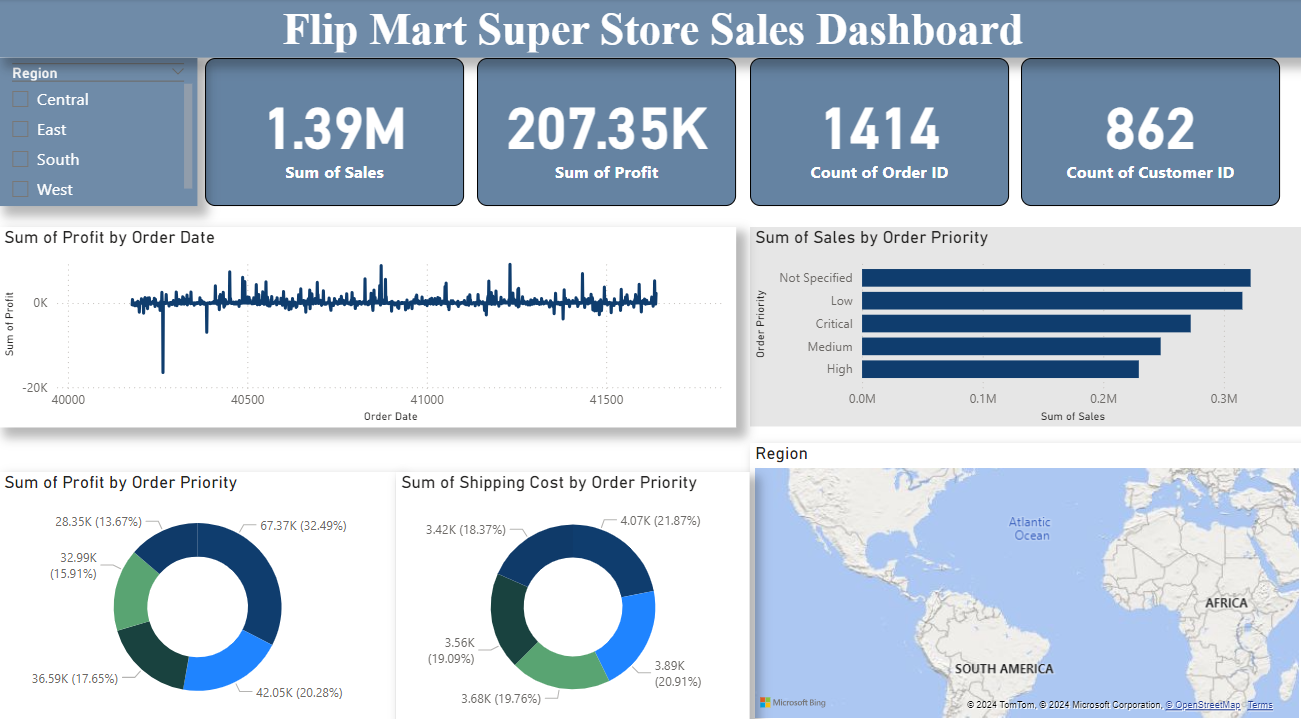

What the dashboard file says about the page in this screenshot:
{"tool":"powerbi","page":{"name":"Dashboard","canvas":[1280,720],"ordinal":0},"visuals":[{"type":"card","fields":{"Values":["Sum(Orders Table.Sales)"]},"box":[199.9,57.1,252,144.5],"z":0},{"type":"card","fields":{"Values":["Sum(Orders Table.Profit)"]},"box":[465.3,57.1,252,144.5],"z":1000},{"type":"card","fields":{"Values":["Count(Orders Table.Order ID)"]},"box":[730.7,57.1,252,144.5],"z":2000},{"type":"card","fields":{"Values":["Count(Orders Table.Customer ID)"]},"box":[994.4,57.1,252,144.5],"z":3000},{"type":"filledMap","fields":{"Category":["Orders Table.Region"]},"box":[730.1,432,538.6,272.2],"z":4000},{"type":"actionButton","box":[0,0,100,40],"z":5000},{"type":"barChart","fields":{"Category":["Orders Table.Order Priority"],"Y":["Sum(Orders Table.Sales)"]},"box":[730.1,221.8,538.6,194.4],"z":6000},{"type":"lineChart","fields":{"Y":["Sum(Orders Table.Profit)"],"Category":["Orders Table.Order Date"]},"box":[0,221.7,717.3,194.9],"z":7000},{"type":"donutChart","fields":{"Category":["Orders Table.Order Priority"],"Y":["Sum(Orders Table.Profit)"]},"box":[0,460.3,386.4,243.6],"z":8000},{"type":"donutChart","fields":{"Category":["Orders Table.Order Priority"],"Y":["Sum(Orders Table.Shipping Cost)"]},"box":[386.4,460.3,344.4,243.6],"z":9000},{"type":"slicer","fields":{"Values":["Orders Table.Region"]},"box":[0,57.1,193.2,144.5],"z":10000},{"type":"textbox","box":[0,0,1280,57.1],"z":11000}]}

Visuals, with their boxes in screenshot pixels (x1, y1, x2, y2), scaled from the page's 1280x720 canvas onto the 1301x719 screenshot:
card - Sum(Orders Table.Sales): [left=203, top=57, right=459, bottom=201]
card - Sum(Orders Table.Profit): [left=473, top=57, right=729, bottom=201]
card - Count(Orders Table.Order ID): [left=743, top=57, right=999, bottom=201]
card - Count(Orders Table.Customer ID): [left=1011, top=57, right=1267, bottom=201]
filledMap - Orders Table.Region: [left=742, top=431, right=1290, bottom=703]
actionButton: [left=0, top=0, right=102, bottom=40]
barChart - Orders Table.Order Priority x Sum(Orders Table.Sales): [left=742, top=221, right=1290, bottom=416]
lineChart - Sum(Orders Table.Profit) x Orders Table.Order Date: [left=0, top=221, right=729, bottom=416]
donutChart - Orders Table.Order Priority x Sum(Orders Table.Profit): [left=0, top=460, right=393, bottom=703]
donutChart - Orders Table.Order Priority x Sum(Orders Table.Shipping Cost): [left=393, top=460, right=743, bottom=703]
slicer - Orders Table.Region: [left=0, top=57, right=196, bottom=201]
textbox: [left=0, top=0, right=1300, bottom=57]
